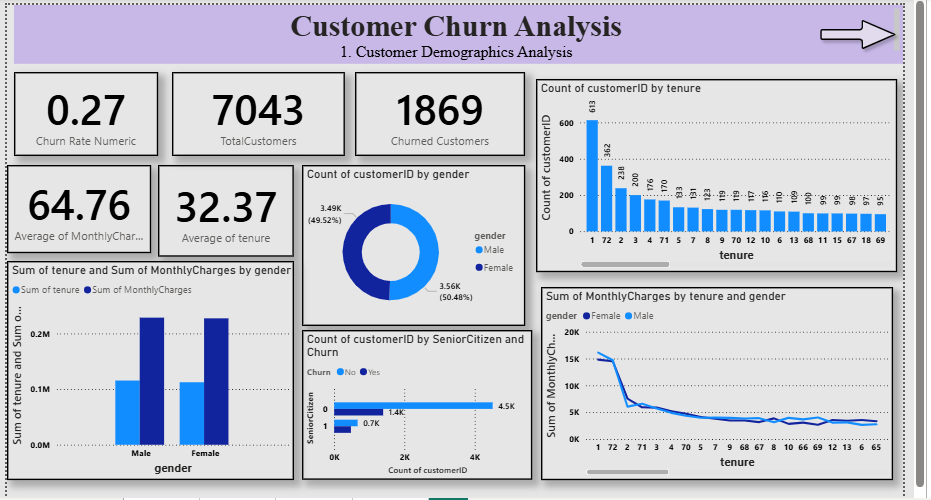

This screenshot's page, from the dashboard's own definition file:
{"tool":"powerbi","page":{"name":"Page 1","canvas":[1280,720],"ordinal":0},"visuals":[{"type":"textbox","box":[10,0,1270,84.3],"z":0},{"type":"card","fields":{"Values":["cca data set.Churn Rate Numeric"]},"box":[10,95.7,205.7,120],"z":1000},{"type":"card","fields":{"Values":["Avg(cca data set.MonthlyCharges)"]},"box":[0,228.6,205.7,125.7],"z":2000},{"type":"card","fields":{"Values":["Avg(cca data set.tenure)"]},"box":[215.7,228.6,194.3,131.4],"z":3000},{"type":"card","fields":{"Values":["cca data set.Churned Customers"]},"box":[497.6,95.1,242.9,120],"z":4000},{"type":"card","fields":{"Values":["cca data set.TotalCustomers"]},"box":[235.7,95.7,247.1,120],"z":5000},{"type":"donutChart","fields":{"Category":["cca data set.gender"],"Y":["CountNonNull(cca data set.customerID)"]},"box":[421.4,228.6,318.6,230],"z":6000},{"type":"clusteredBarChart","fields":{"Category":["cca data set.SeniorCitizen"],"Y":["CountNonNull(cca data set.customerID)"],"Series":["cca data set.Churn"]},"box":[421.4,464.3,328.6,214.3],"z":7000},{"type":"lineChart","fields":{"Category":["cca data set.tenure"],"Y":["Sum(cca data set.MonthlyCharges)"],"Series":["cca data set.gender"]},"box":[762.9,402.9,502.9,275.7],"z":8000},{"type":"clusteredColumnChart","fields":{"Category":["cca data set.tenure"],"Y":["CountNonNull(cca data set.customerID)"]},"box":[755.7,105.7,515.7,275.7],"z":9000},{"type":"clusteredColumnChart","fields":{"Y":["Sum(cca data set.tenure)","Sum(cca data set.MonthlyCharges)"],"Category":["cca data set.gender"]},"box":[0,365.7,410,312.9],"z":10000},{"type":"shape","box":[1153.2,11.7,127.3,61.5],"z":11000}]}

Visuals, with their boxes in screenshot pixels (x1, y1, x2, y2):
textbox: bbox=(10, 0, 910, 57)
card - cca data set.Churn Rate Numeric: bbox=(10, 65, 155, 151)
card - Avg(cca data set.MonthlyCharges): bbox=(2, 160, 148, 249)
card - Avg(cca data set.tenure): bbox=(155, 160, 293, 253)
card - cca data set.Churned Customers: bbox=(355, 65, 528, 150)
card - cca data set.TotalCustomers: bbox=(170, 65, 345, 151)
donutChart - cca data set.gender x CountNonNull(cca data set.customerID): bbox=(301, 160, 527, 323)
clusteredBarChart - cca data set.SeniorCitizen x CountNonNull(cca data set.customerID): bbox=(301, 327, 534, 479)
lineChart - cca data set.tenure x Sum(cca data set.MonthlyCharges): bbox=(543, 283, 900, 479)
clusteredColumnChart - cca data set.tenure x CountNonNull(cca data set.customerID): bbox=(538, 73, 904, 268)
clusteredColumnChart - Sum(cca data set.tenure) x Sum(cca data set.MonthlyCharges): bbox=(2, 257, 293, 479)
shape: bbox=(820, 6, 911, 49)
